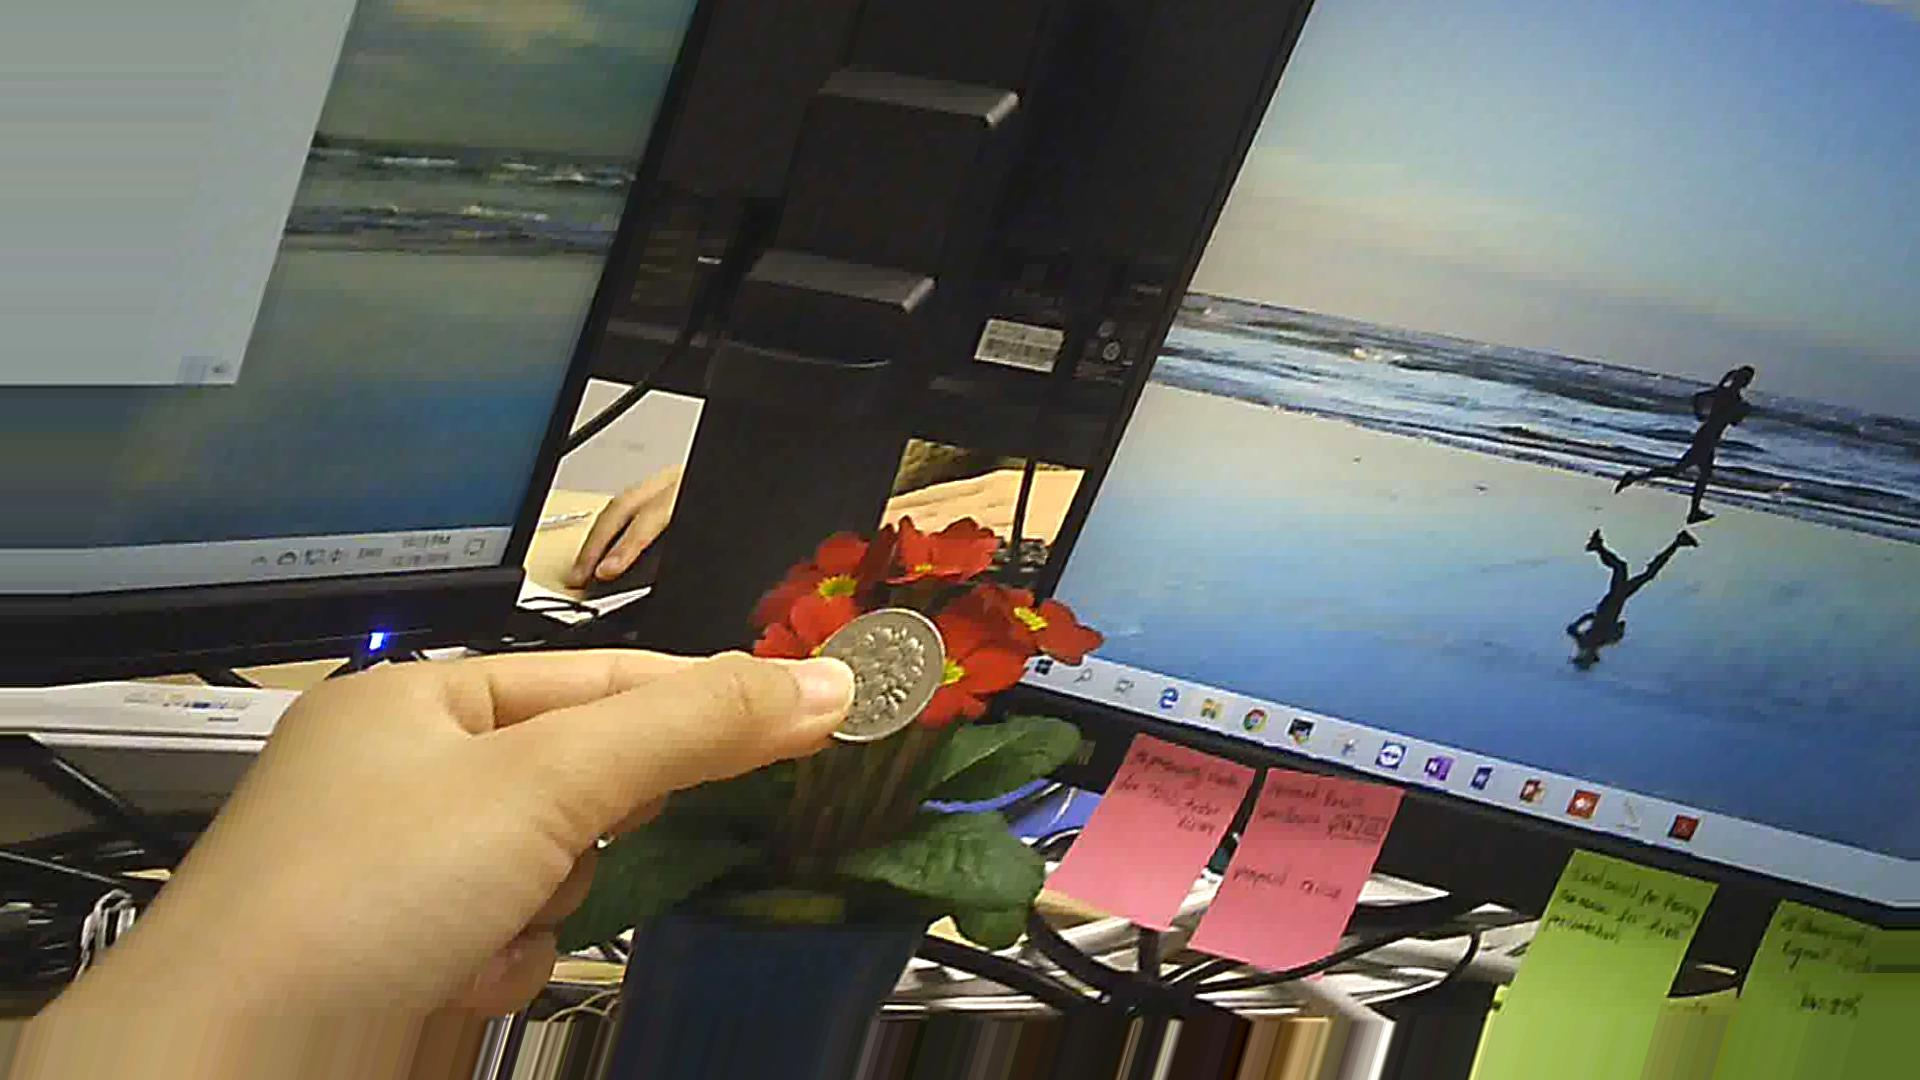100 Yen: (795, 607, 945, 756)
